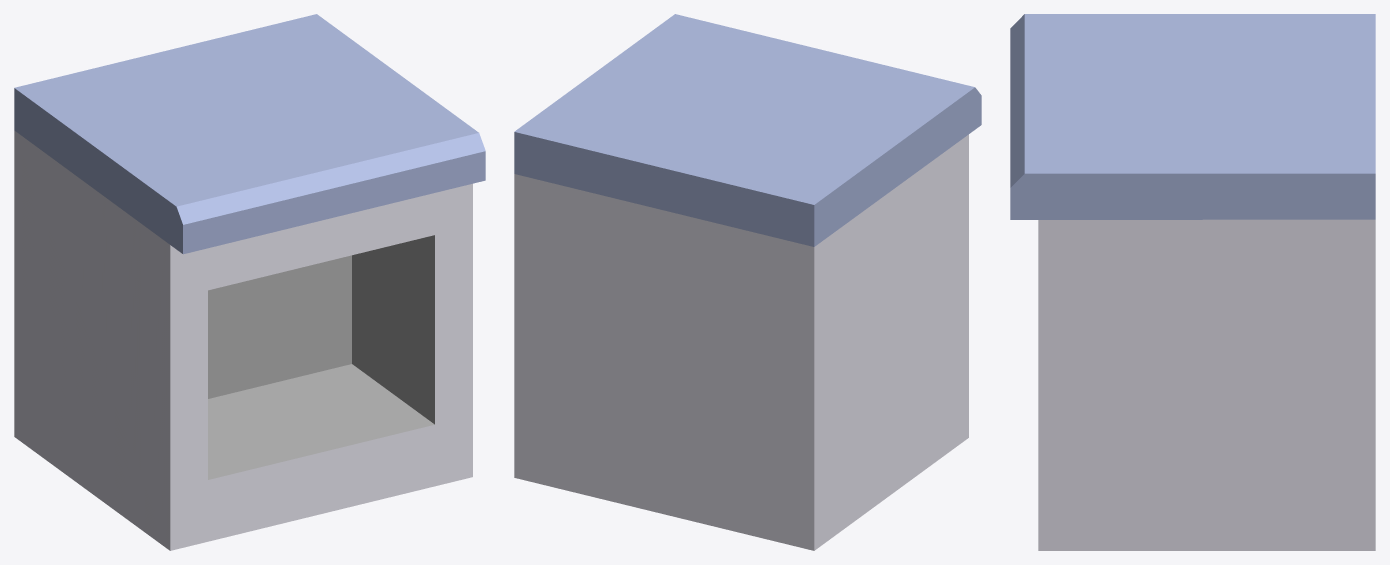
The model's file is cupboard_bottom_big.fbx.
3 renders of one model, left to right at view 1: azimuth 30°, elevation 25°; view 2: azimuth 150°, elevation 25°; view 3: azimuth 270°, elevation 25°, orthographic. The views are drawn at different scales.
Visible parts, largest first — view 1: Cube.079; view 2: Cube.079; view 3: Cube.079.
Boxes of the visible parts, box(x1,y1,x2,y2) form: Cube.079: box(14, 14, 485, 550); Cube.079: box(514, 14, 981, 550); Cube.079: box(1010, 14, 1375, 550).
Size of the model in its own units: 200 by 220 by 193.
